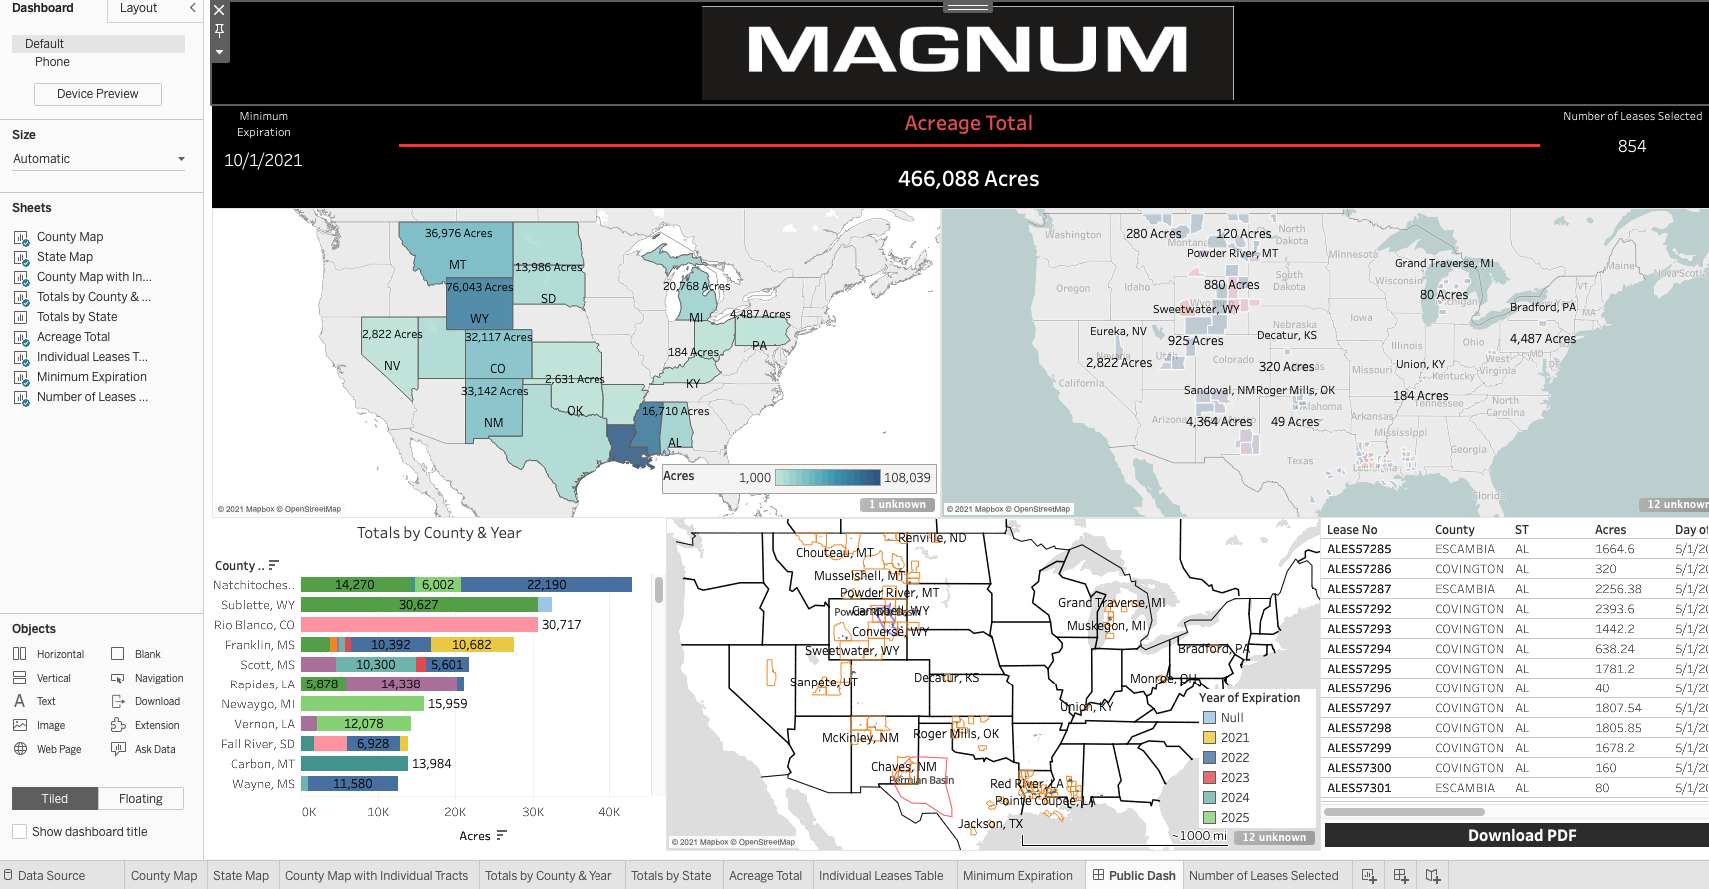

What the dashboard file says about the page in this screenshot:
{"tool":"tableau","page":{"name":"Public Dash","canvas":[1000,1000],"units":"permille","ordinal":0},"visuals":[{"type":"image","param":"Image/Magnum Logo Large.PNG","box":[4.7,8.5,990.6,117.9]},{"type":"worksheet","title":"Minimum Expiration","mark":"Automatic","box":[4.7,126.3,122.2,120.9]},{"type":"worksheet","title":"Acreage Total","mark":"Automatic","box":[126.9,126.3,747.1,120.9]},{"type":"worksheet","title":"Number of Leases Selected","mark":"Automatic","box":[873.9,126.3,121.4,120.9]},{"type":"worksheet","title":"State Map","mark":"Automatic","box":[4.7,247.2,477.2,358.3]},{"type":"worksheet","title":"County Map","mark":"Multipolygon","box":[481.9,247.2,513.5,358.3]},{"type":"legend","title":"State Map","param":"[federated.1q8y4oa020wbrz14a3cgf12d33q6].[sum:ACRES:qk]","box":[300.1,542.8,179.7,34.2]},{"type":"worksheet","title":"Totals by County & Year","mark":"Bar","rows":["official_c"],"cols":["ACRES"],"box":[4.7,605.5,297.6,386.1]},{"type":"worksheet","title":"County Map with Individual Tracts","mark":"Multipolygon","box":[302.2,605.5,428.4,386.1]},{"type":"worksheet","title":"Individual Leases Table","mark":"Automatic","rows":["LEASE_NO","COUNTY","ST","ACRES","EXPIRATION","DESCRIPT_1","DESCRIPT_2"],"box":[730.7,605.5,264.6,349]},{"type":"legend","title":"County Map with Individual Tracts","param":"[federated.1q8y4oa020wbrz14a3cgf12d33q6].[yr:EXPIRATION:ok]","box":[650.7,803.8,76.7,160.1]},{"type":"dashboard-object","box":[730.7,954.5,264.6,37]}]}

Visuals, with their boxes on the dashboard's canvas, which has no fixed pixel size, in thousandths of its width and height (x1, y1, x2, y2). These are canvas units, not pixel positions in the 1709x889 screenshot, which may show the page scaled, cropped or inside an application window:
image: bbox(5, 8, 995, 126)
"Minimum Expiration" worksheet: bbox(5, 126, 127, 247)
"Acreage Total" worksheet: bbox(127, 126, 874, 247)
"Number of Leases Selected" worksheet: bbox(874, 126, 995, 247)
"State Map" worksheet: bbox(5, 247, 482, 606)
"County Map" worksheet (Multipolygon marks): bbox(482, 247, 995, 606)
"State Map" legend: bbox(300, 543, 480, 577)
"Totals by County & Year" worksheet (Bar marks): bbox(5, 606, 302, 992)
"County Map with Individual Tracts" worksheet (Multipolygon marks): bbox(302, 606, 731, 992)
"Individual Leases Table" worksheet: bbox(731, 606, 995, 954)
"County Map with Individual Tracts" legend: bbox(651, 804, 727, 964)
dashboard-object: bbox(731, 954, 995, 992)
